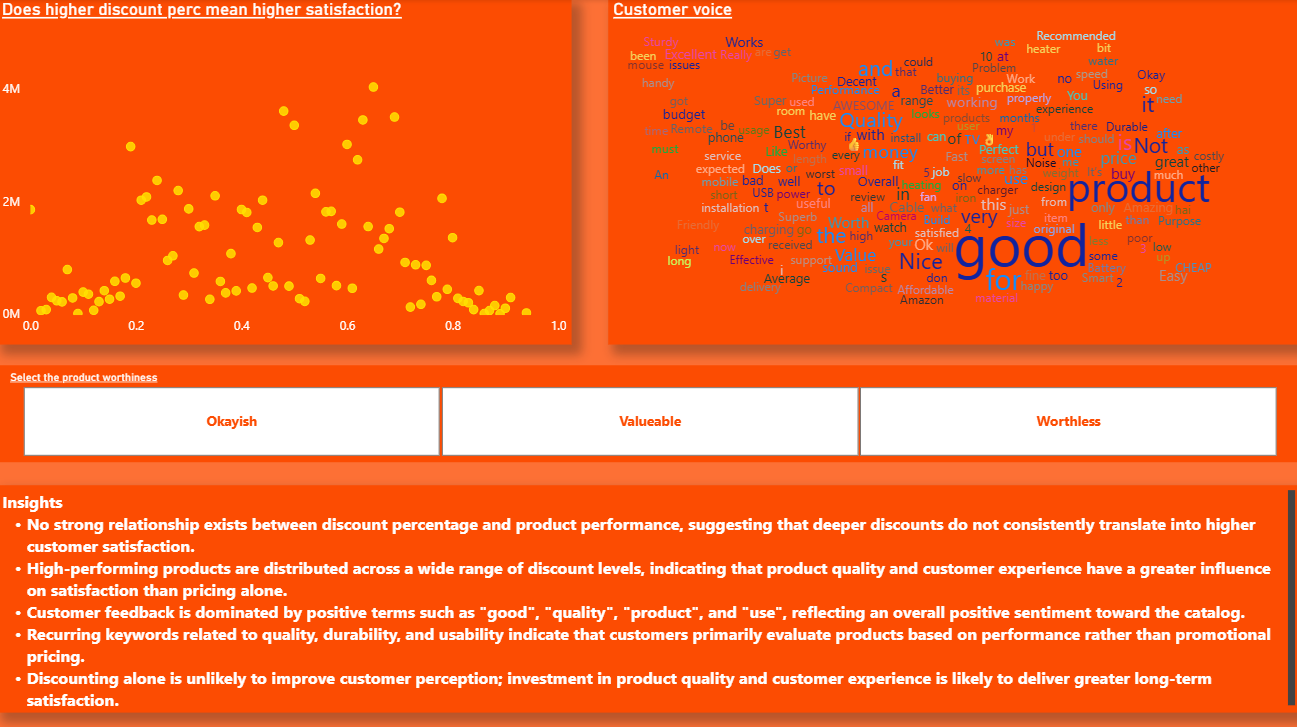

What the dashboard file says about the page in this screenshot:
{"tool":"powerbi","page":{"name":"Customer voice","canvas":[1280,720],"ordinal":4},"visuals":[{"type":"scatterChart","title":"Does higher discount perc mean higher satisfaction?","fields":{"X":["products.discount_percentage"],"Y":["DAX measures.Product score"]},"box":[0,0,564,339.4],"z":0},{"type":"slicer","fields":{"Values":["products.Worth"]},"box":[0,360.1,1280.3,95.5],"z":1000},{"type":"WordCloud1447959067750","title":"Customer voice","fields":{"Category":["products.review_title"]},"box":[600.1,0,680.1,339.4],"z":2000},{"type":"textbox","box":[0,477.5,1280.3,223.3],"z":3000}]}

Visuals, with their boxes in screenshot pixels (x1, y1, x2, y2), scaled from the page's 1280x720 canvas onto the 1297x727 screenshot:
"Does higher discount perc mean higher satisfaction?" scatterChart: <box>0,0,571,343</box>
slicer - products.Worth: <box>0,364,1296,460</box>
"Customer voice" WordCloud1447959067750: <box>608,0,1296,343</box>
textbox: <box>0,482,1296,708</box>
